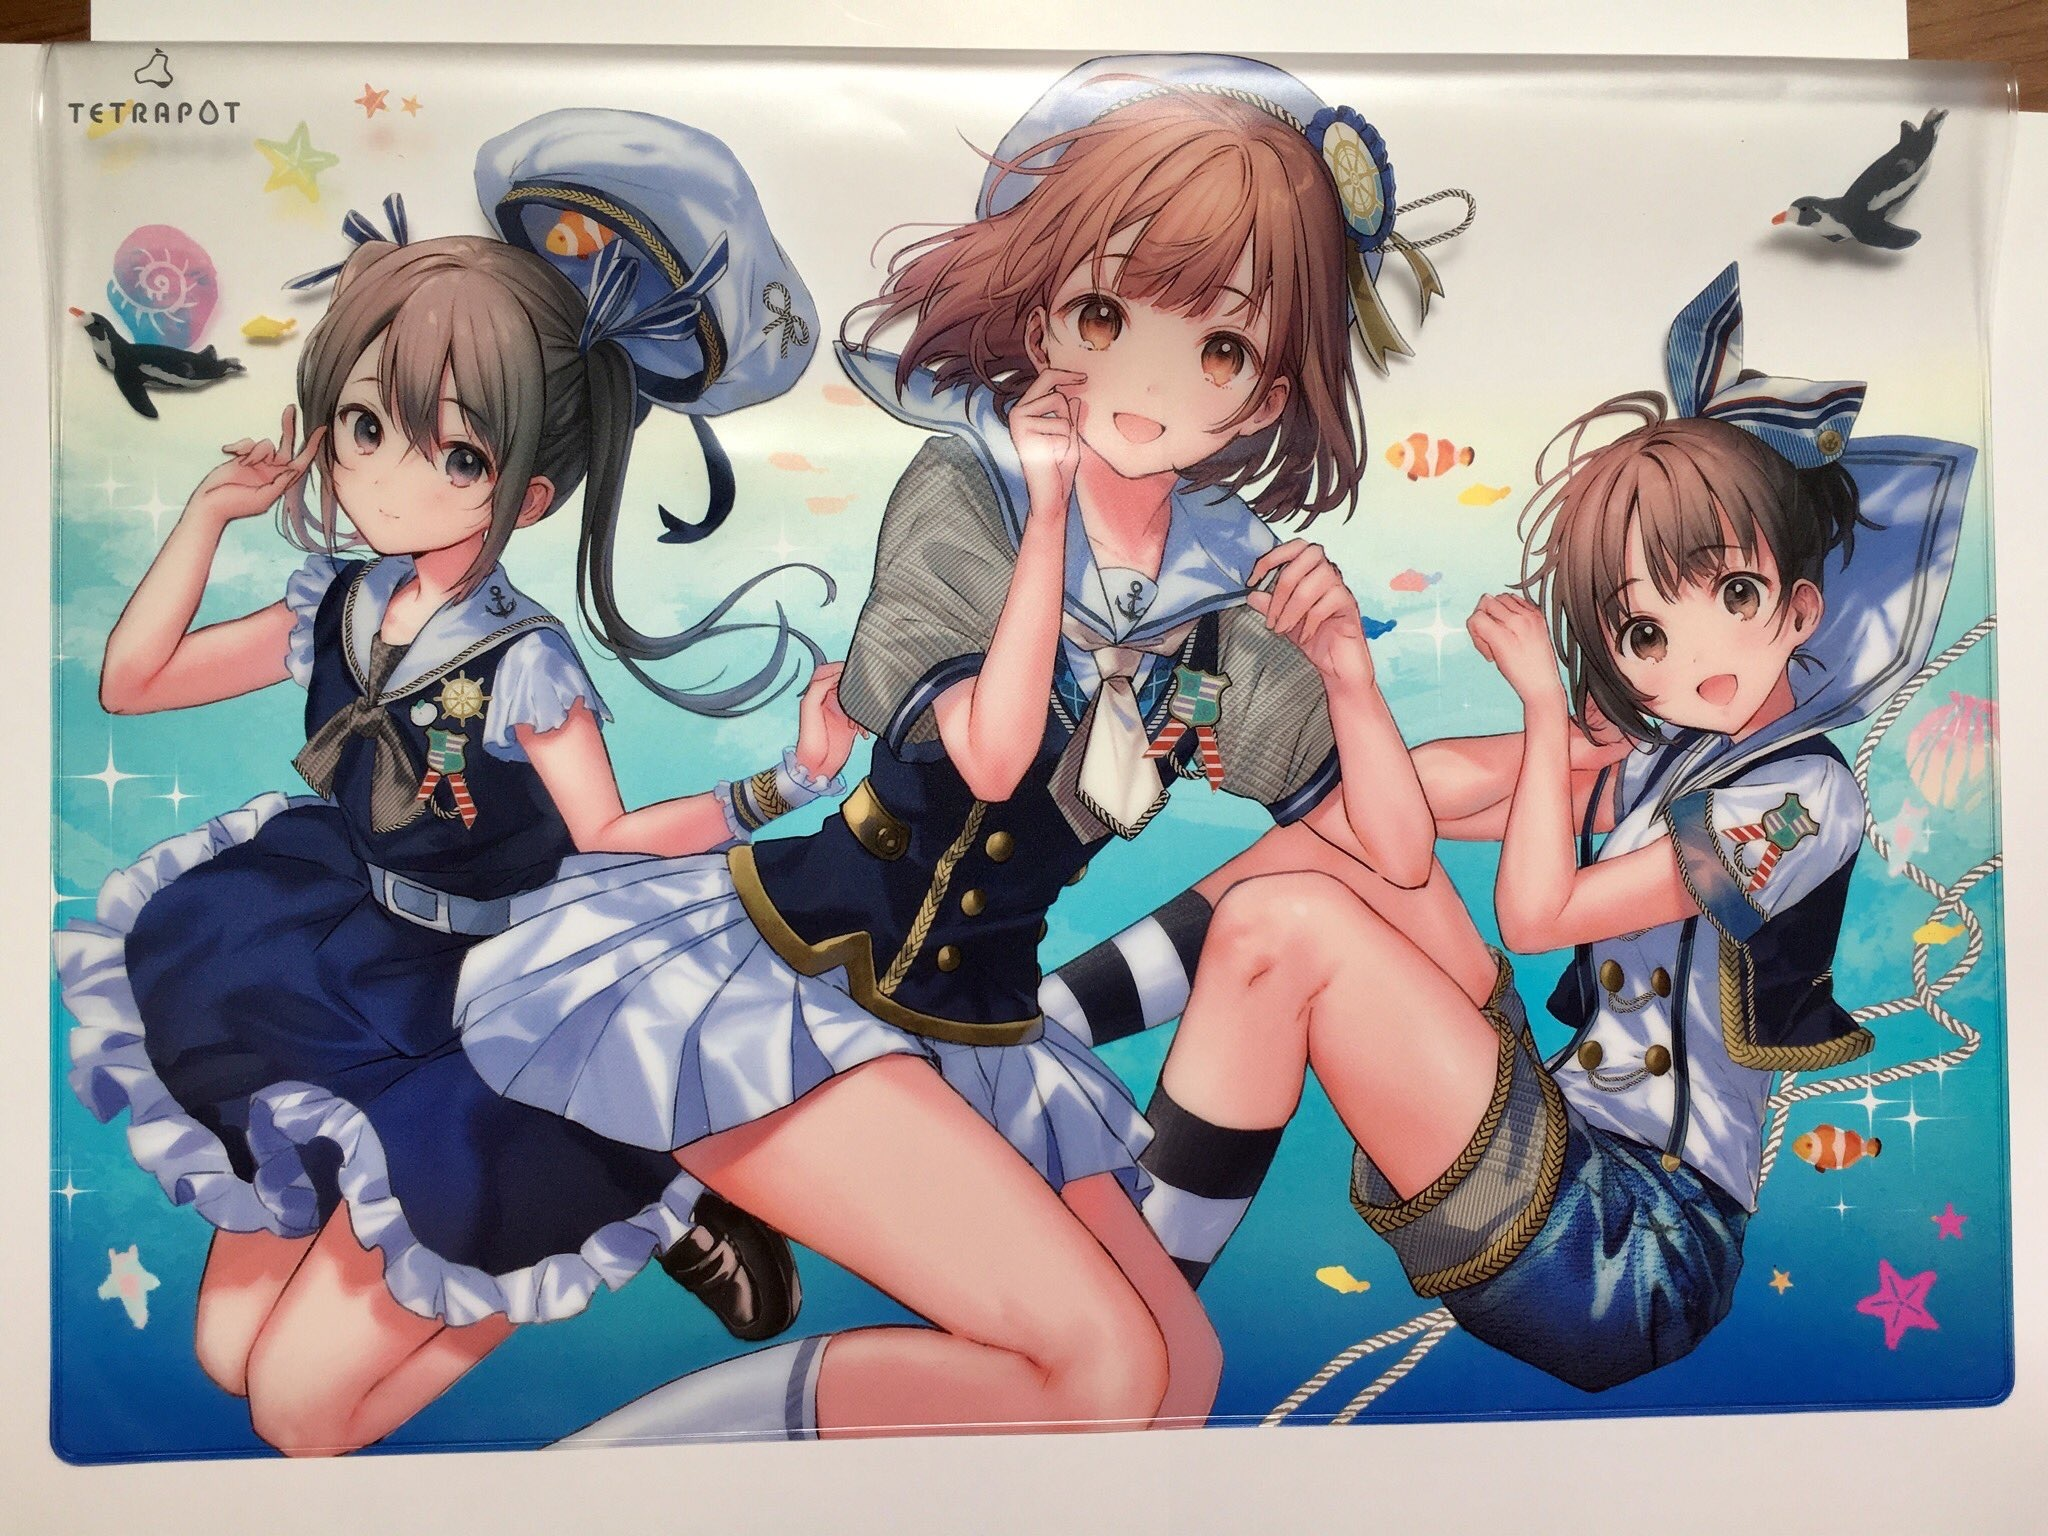纸片人正脸: (1010, 84, 1363, 492), (1552, 422, 1840, 756), (283, 235, 572, 565)
